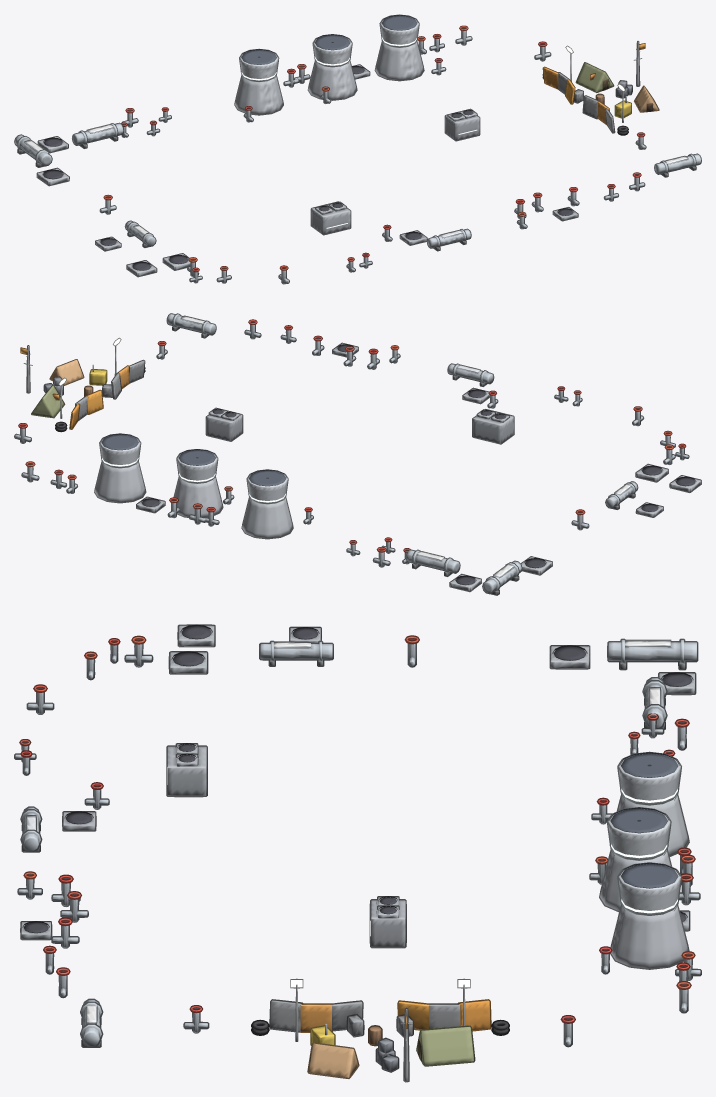
The model's file is coolant_vaults.glb.
3 renders of one model, top to bottom at view 1: azimuth 30°, elevation 25°; view 2: azimuth 150°, elevation 25°; view 3: azimuth 270°, elevation 25°, orthographic. The views are drawn at different scales.
Parts seen in each view (by area): view 1: Baked_matte, Baked_metal, Baked_matte_Outline, Baked_metal_Outline, Baked_satin, Baked_satin_Outline; view 2: Baked_matte, Baked_metal, Baked_matte_Outline, Baked_metal_Outline, Baked_satin, Baked_satin_Outline; view 3: Baked_matte, Baked_metal, Baked_matte_Outline, Baked_metal_Outline, Baked_satin, Baked_satin_Outline.
Part boxes in pixels (x1=…): Baked_matte: x1=25, y1=15, x2=687, y2=276; Baked_metal: x1=15, y1=31, x2=700, y2=283; Baked_matte_Outline: x1=24, y1=14, x2=688, y2=277; Baked_metal_Outline: x1=14, y1=27, x2=701, y2=284; Baked_satin: x1=43, y1=43, x2=645, y2=270; Baked_satin_Outline: x1=42, y1=43, x2=645, y2=266; Baked_matte: x1=19, y1=316, x2=701, y2=591; Baked_metal: x1=15, y1=314, x2=688, y2=594; Baked_matte_Outline: x1=18, y1=315, x2=701, y2=592; Baked_metal_Outline: x1=14, y1=313, x2=689, y2=595; Baked_satin: x1=21, y1=345, x2=695, y2=585; Baked_satin_Outline: x1=20, y1=344, x2=696, y2=580; Baked_matte: x1=20, y1=625, x2=694, y2=1077; Baked_metal: x1=15, y1=640, x2=700, y2=1080; Baked_matte_Outline: x1=19, y1=624, x2=696, y2=1078; Baked_metal_Outline: x1=14, y1=638, x2=701, y2=1082; Baked_satin: x1=23, y1=626, x2=692, y2=1031; Baked_satin_Outline: x1=22, y1=624, x2=693, y2=1032.
Size of the model in its own units: 41.22 by 3.32 by 26.33.
